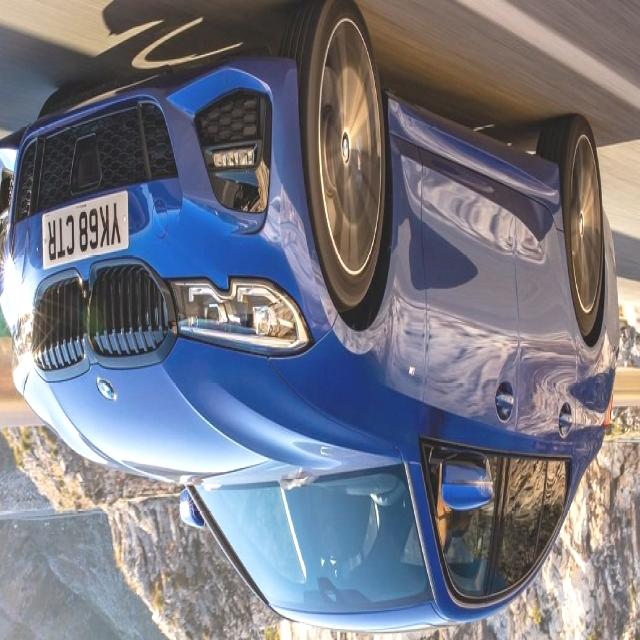blue: (0, 6, 621, 637)
